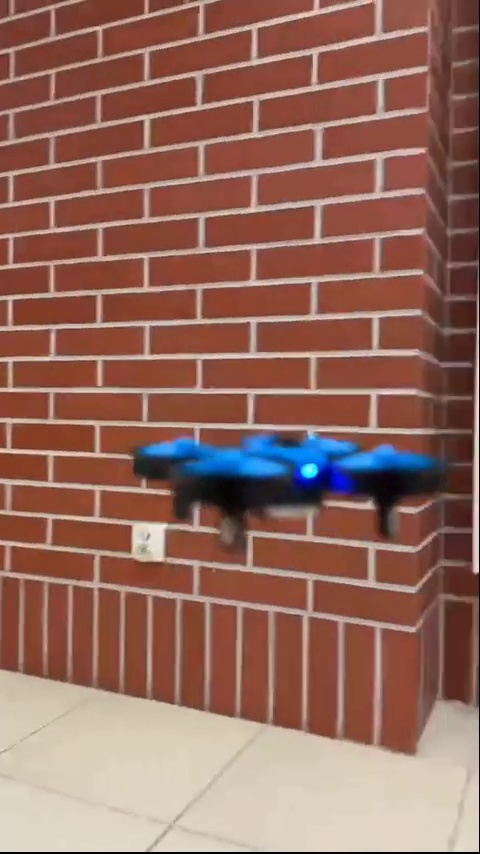drone: (138, 431, 448, 547)
